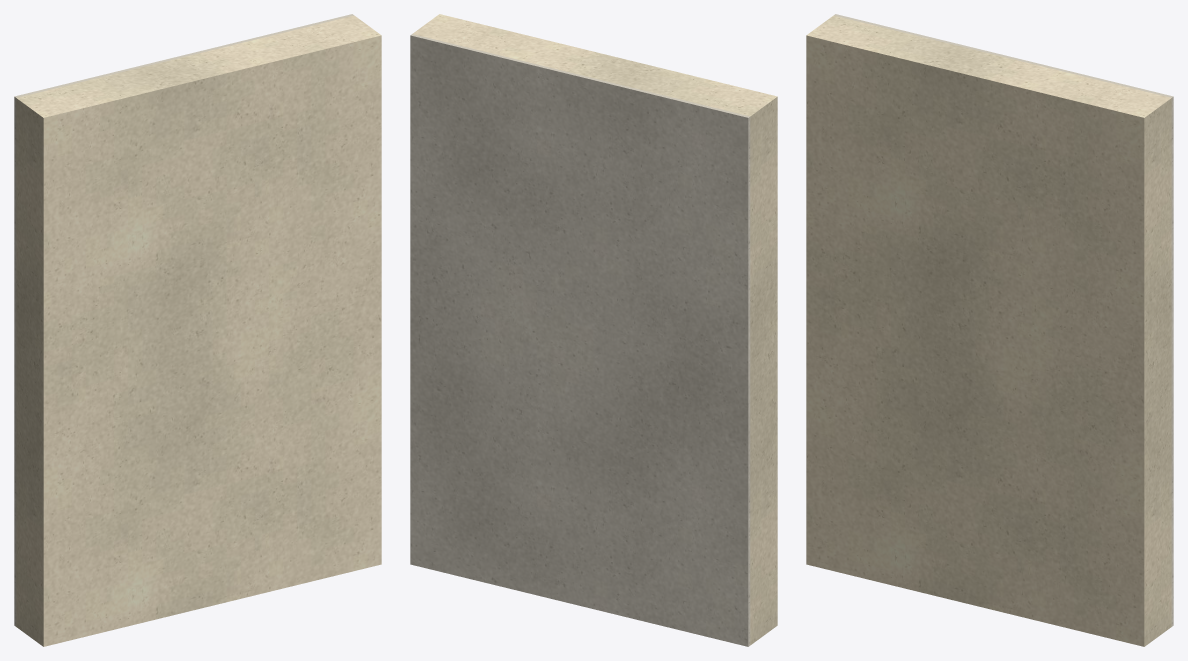
Rendered from wall_up_back_plain.glb.
3 views of the same model, side by side, from view 1: azimuth 30°, elevation 25°; view 2: azimuth 150°, elevation 25°; view 3: azimuth 330°, elevation 25° (orthographic).
Visible parts, largest first — view 1: wall_up_back_plain_stucco, wall_up_back_plain_plaster; view 2: wall_up_back_plain_plaster, wall_up_back_plain_stucco; view 3: wall_up_back_plain_stucco, wall_up_back_plain_plaster.
Part boxes in pixels (x1,y1,x2,y2): wall_up_back_plain_stucco: [16, 15, 381, 646]; wall_up_back_plain_plaster: [14, 14, 353, 626]; wall_up_back_plain_plaster: [410, 34, 750, 646]; wall_up_back_plain_stucco: [412, 14, 777, 645]; wall_up_back_plain_stucco: [806, 15, 1171, 646]; wall_up_back_plain_plaster: [834, 14, 1173, 626].
Size of the model in its own units: 2 by 2.99 by 0.3.
Materials: 2 (2 with a texture image).
